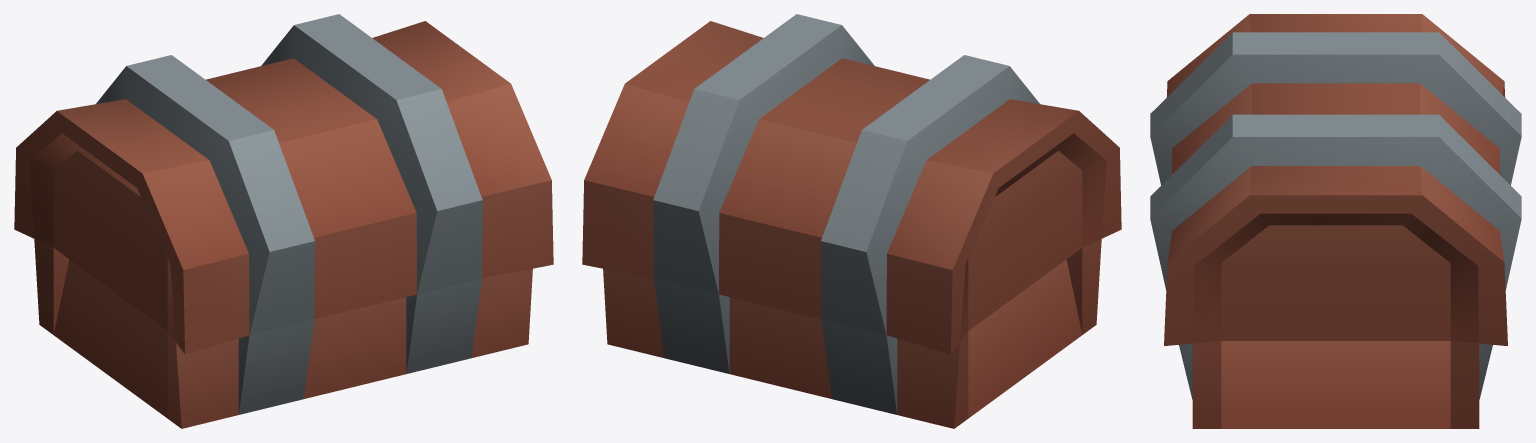
File: chest.glb
3 views of the same model, side by side, from view 1: azimuth 30°, elevation 25°; view 2: azimuth 150°, elevation 25°; view 3: azimuth 270°, elevation 25° (orthographic).
Visible parts, largest first — view 1: trunk_large_A; view 2: trunk_large_A; view 3: trunk_large_A.
Boxes of the visible parts, left/top/right/bottom form: trunk_large_A: left=14, top=14, right=553, bottom=428; trunk_large_A: left=582, top=14, right=1121, bottom=428; trunk_large_A: left=1150, top=14, right=1521, bottom=428.
Size of the model in its own units: 0.675 by 0.45 by 0.585.
1 material, 1 textured.
